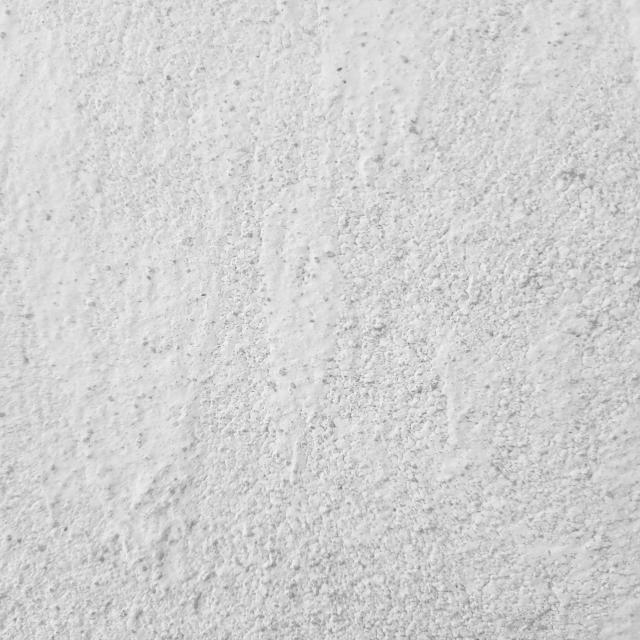rough and patchy surface: (16, 5, 626, 635)
